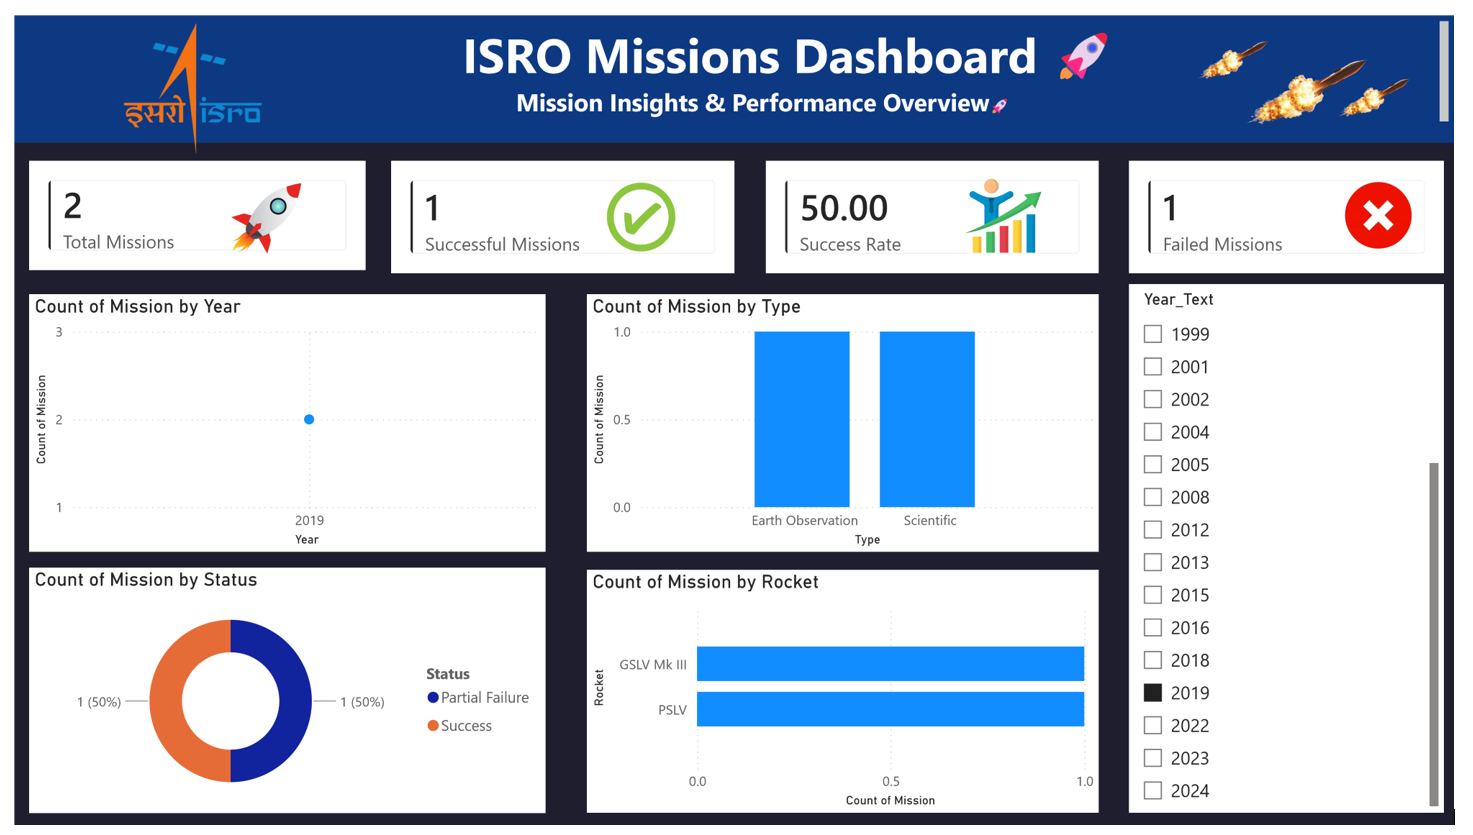

The page's visual inventory and layout, read from the dashboard file:
{"tool":"powerbi","page":{"name":"Page 1","canvas":[1280,720],"ordinal":0},"visuals":[{"type":"cardVisual","fields":{"Data":["Sheet1.Total Missions"]},"box":[12.9,128.9,299.6,96.6],"z":0},{"type":"cardVisual","fields":{"Data":["Sheet1.Successful Missions"]},"box":[335,128.9,305,99.9],"z":1000},{"type":"cardVisual","fields":{"Data":["Sheet1.Success Rate"]},"box":[667.9,128.9,296.4,99.9],"z":2000},{"type":"cardVisual","fields":{"Data":["Sheet1.Failed Missions"]},"box":[991.1,128.9,280.3,99.9],"z":3000},{"type":"lineChart","fields":{"Category":["Sheet1.Year"],"Y":["CountNonNull(Sheet1.Mission)"]},"box":[12.9,248.1,459.6,228.7],"z":4000},{"type":"donutChart","fields":{"Category":["Sheet1.Status"],"Y":["CountNonNull(Sheet1.Mission)"]},"box":[12.9,490.7,459.6,218],"z":5000},{"type":"clusteredBarChart","fields":{"Category":["Sheet1.Rocket"],"Y":["CountNonNull(Sheet1.Mission)"]},"box":[509,492.9,455.3,215.8],"z":6000},{"type":"clusteredColumnChart","fields":{"Category":["Sheet1.Type"],"Y":["CountNonNull(Sheet1.Mission)"]},"box":[509,248.1,455.3,228.7],"z":7000},{"type":"slicer","fields":{"Values":["Sheet1.Year_Text"]},"box":[991.1,239.5,280.3,469.3],"z":8000},{"type":"textbox","box":[0,0,1280,112.8],"z":9000},{"type":"image","box":[41.9,0,233,136.4],"z":10000},{"type":"image","box":[136.4,112.8,176.1,133.2],"z":11000},{"type":"image","box":[499.3,143.9,116,69.8],"z":12000},{"type":"image","box":[807.5,143.9,141.7,67.7],"z":13000},{"type":"image","box":[1154.4,140.7,117,73],"z":14000},{"type":"image","box":[1025.5,0,245.9,136.4],"z":15000},{"type":"image","box":[1137.2,33.3,142.8,79.5],"z":16000},{"type":"image","box":[1011.5,0,165.4,112.8],"z":17000}]}

Visuals, with their boxes in screenshot pixels (x1, y1, x2, y2), scaled from the page's 1280x720 canvas onto the 1473x835 screenshot:
cardVisual - Sheet1.Total Missions: <box>15,149,360,262</box>
cardVisual - Sheet1.Successful Missions: <box>386,149,736,265</box>
cardVisual - Sheet1.Success Rate: <box>769,149,1110,265</box>
cardVisual - Sheet1.Failed Missions: <box>1141,149,1463,265</box>
lineChart - Sheet1.Year x CountNonNull(Sheet1.Mission): <box>15,288,544,553</box>
donutChart - Sheet1.Status x CountNonNull(Sheet1.Mission): <box>15,569,544,822</box>
clusteredBarChart - Sheet1.Rocket x CountNonNull(Sheet1.Mission): <box>586,572,1110,822</box>
clusteredColumnChart - Sheet1.Type x CountNonNull(Sheet1.Mission): <box>586,288,1110,553</box>
slicer - Sheet1.Year_Text: <box>1141,278,1463,822</box>
textbox: <box>0,0,1472,131</box>
image: <box>48,0,316,158</box>
image: <box>157,131,360,285</box>
image: <box>575,167,708,248</box>
image: <box>929,167,1092,245</box>
image: <box>1328,163,1463,248</box>
image: <box>1180,0,1463,158</box>
image: <box>1309,39,1472,131</box>
image: <box>1164,0,1354,131</box>
